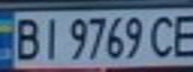6: (103, 14, 127, 61)
7: (84, 14, 106, 61)
9: (121, 13, 148, 60), (63, 14, 87, 61)
B: (9, 14, 42, 61)
C: (148, 11, 178, 60)
E: (169, 11, 193, 58)
I: (36, 14, 66, 61)
